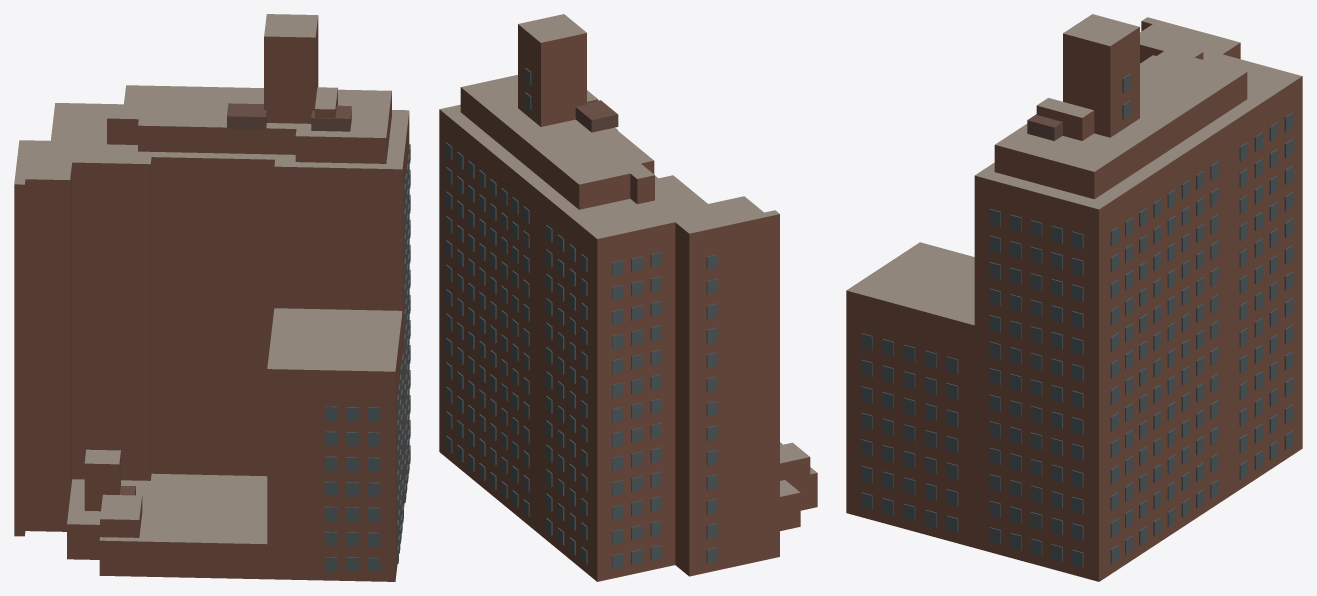
File: lipton-hall.glb
3 views of the same model, side by side, from view 1: azimuth 30°, elevation 25°; view 2: azimuth 150°, elevation 25°; view 3: azimuth 270°, elevation 25° (orthographic). The views are drawn at different scales.
Visible parts, largest first — view 1: lipton-hall; view 2: lipton-hall; view 3: lipton-hall.
Boxes of the visible parts, left/top/right/bottom form: lipton-hall: left=14, top=14, right=410, bottom=581; lipton-hall: left=439, top=14, right=817, bottom=581; lipton-hall: left=846, top=14, right=1302, bottom=581.
Bounding box in the file's own units: 50.55 × 60.19 × 50.67.
